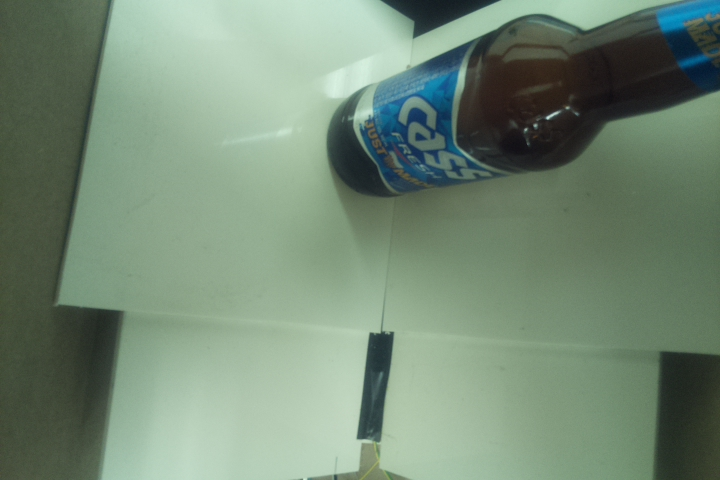makju: (325, 1, 719, 199)
